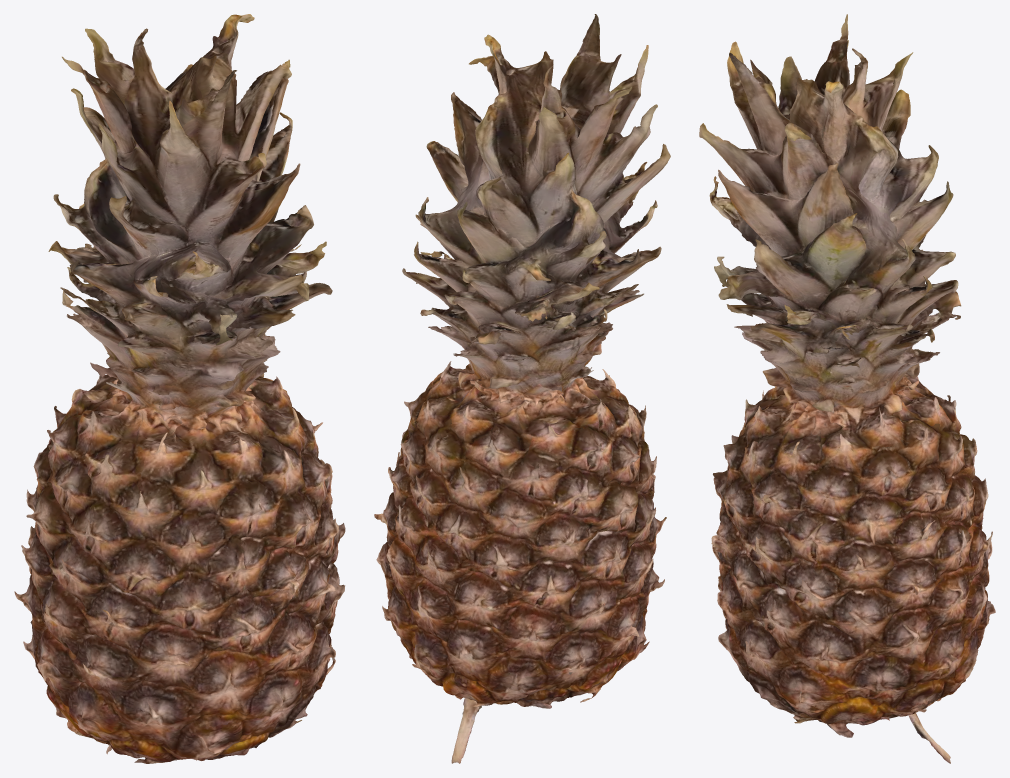
The model's file is pineapple-2.glb.
The picture shows the model from 3 angles, left to right: view 1: azimuth 30°, elevation 25°; view 2: azimuth 150°, elevation 25°; view 3: azimuth 270°, elevation 25°; orthographic projection. The views are drawn at different scales.
Visible parts, largest first — view 1: Object_2; view 2: Object_2; view 3: Object_2.
Boxes of the visible parts, bbox=[...] form: Object_2: bbox=[14, 14, 345, 763]; Object_2: bbox=[374, 14, 670, 763]; Object_2: bbox=[699, 14, 995, 763].
Bounding box in the file's own units: 1.35 × 3.5 × 1.36.
Materials: 1 (1 with a texture image).
